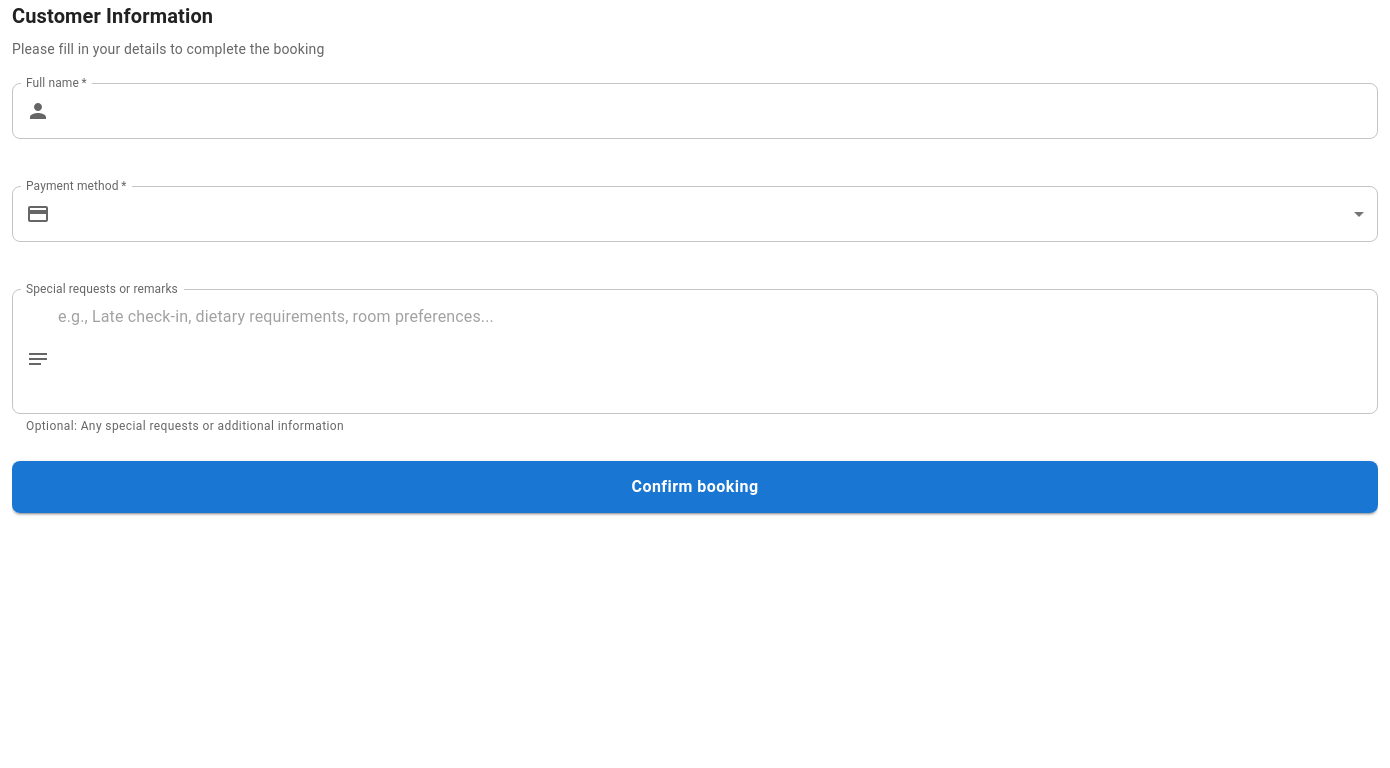
it: UserInfoForm Validation › shows validation error for empty customer name
Click the button "Confirm booking": (695, 487) x1=12 y1=461 x2=1378 y2=513
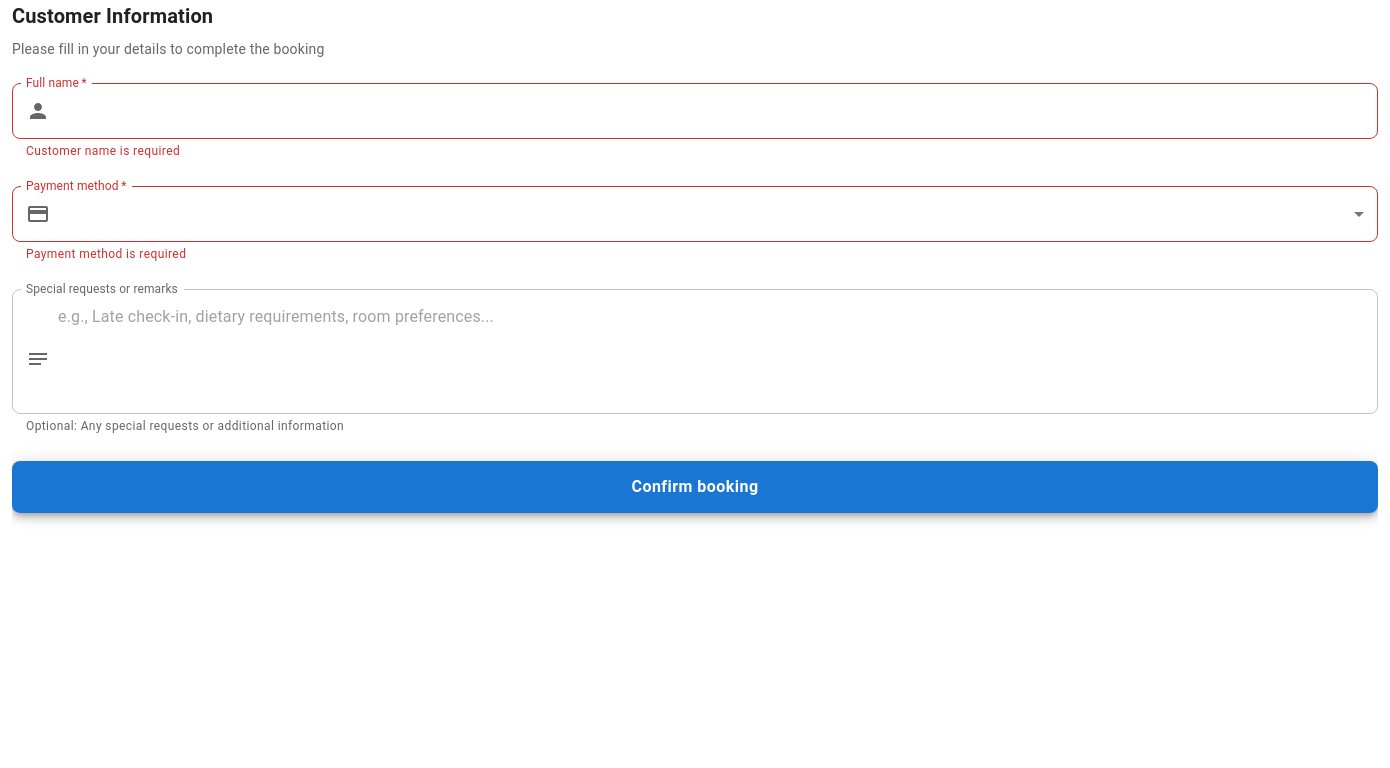
Now the text "Customer name is required" is shown, box x1=26 y1=144 x2=180 y2=158
